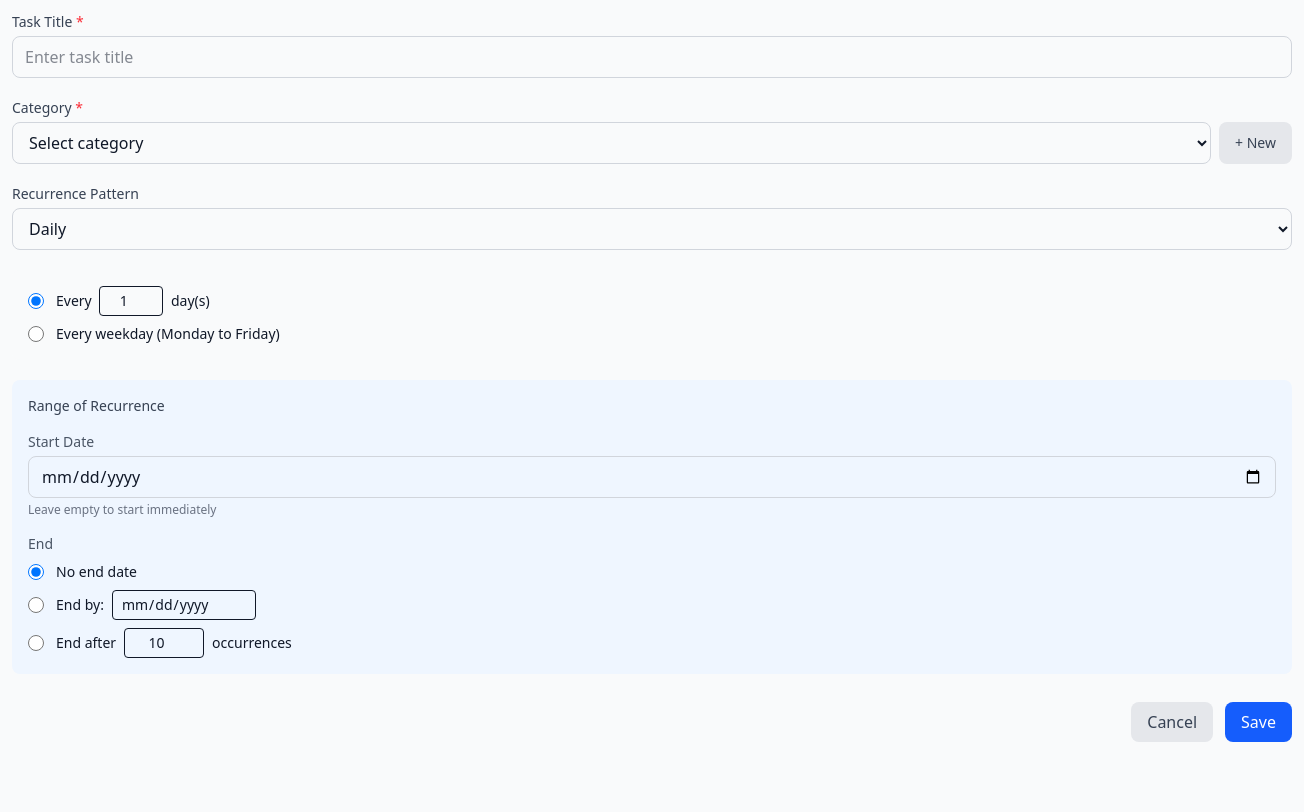
it: TaskForm › shows weekly options when weekly recurrence is selected
Select "Weekly" in the dropdown below "Recurrence Pattern". click: point(652, 229)
box: [12,208,1292,250]
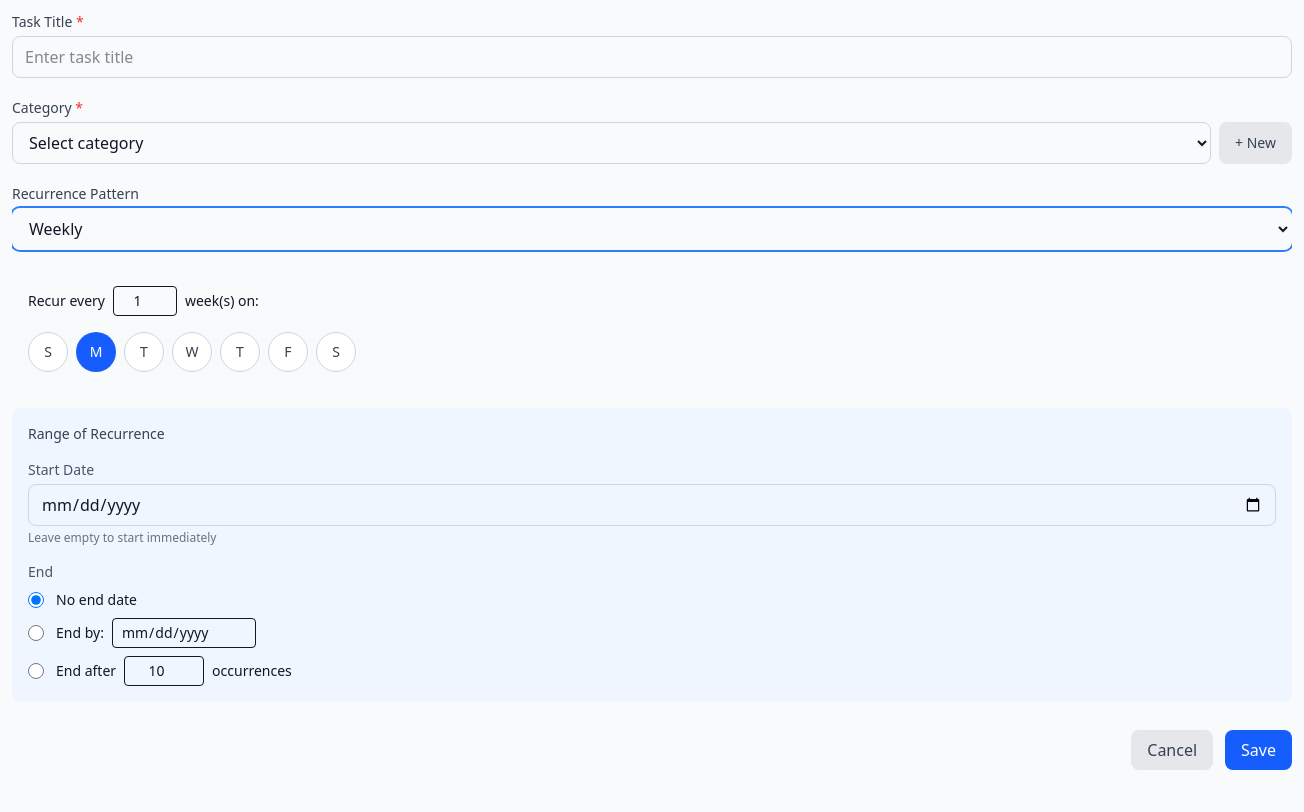
Check: the button titled "Monday" is shown, box [76,332,116,372]
Check: the 1st button titled "Tuesday" is shown, box [124,332,164,372]
Check: the text "week(s) on:" is shown, box [185,291,259,311]
